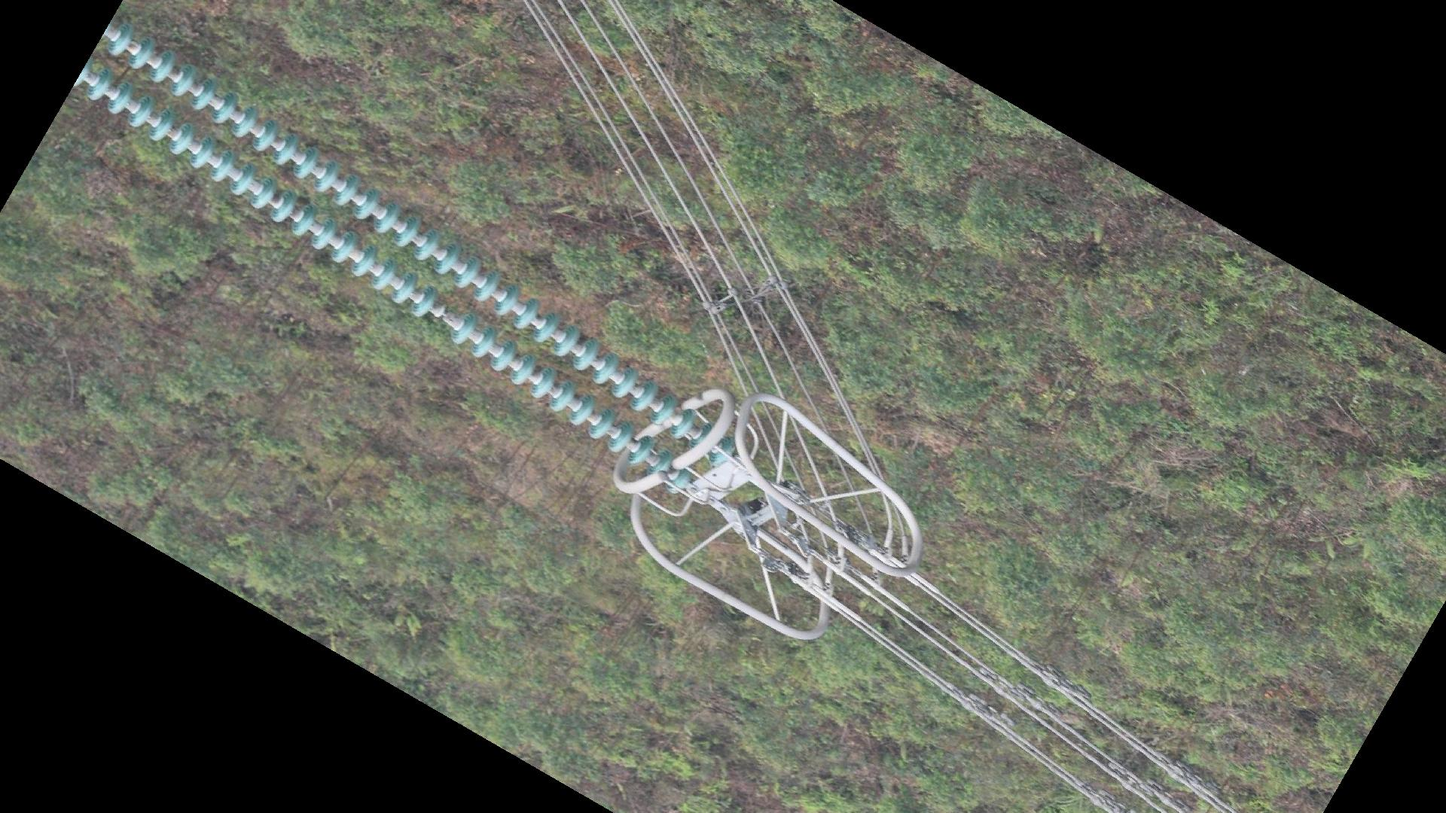insulator: (66, 5, 739, 499)
insulator_stringdrop: (409, 284, 480, 348)
